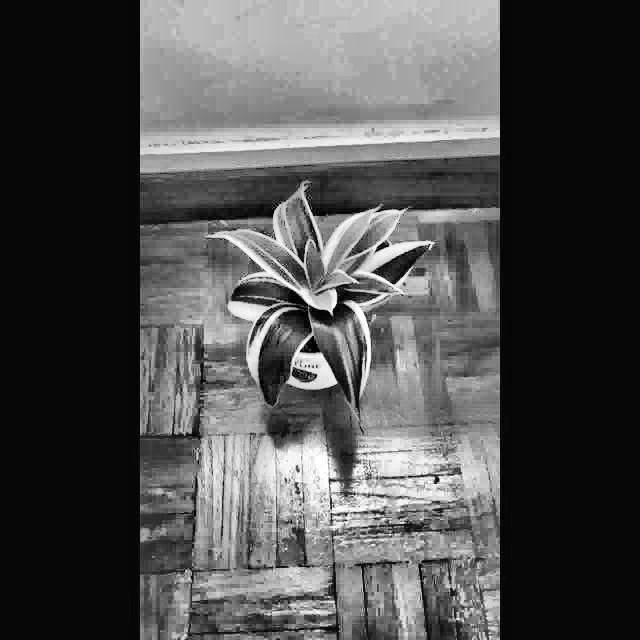plants: (195, 164, 436, 437)
